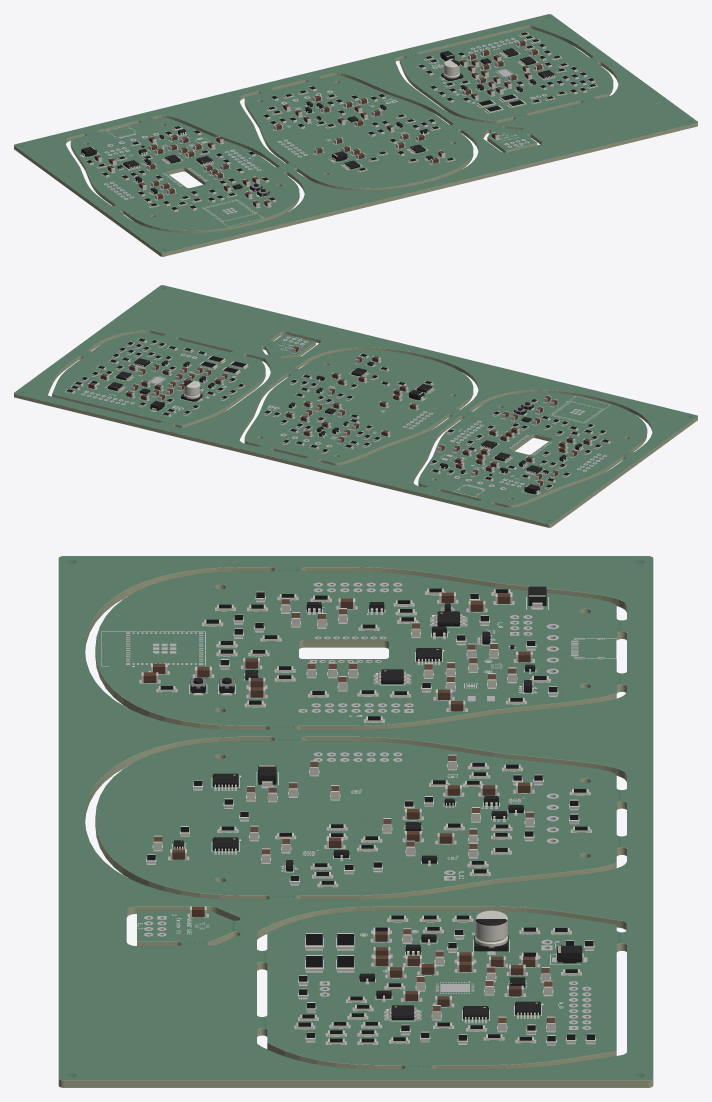
The model's file is Panel.glb.
3 renders of one model, top to bottom at view 1: azimuth 30°, elevation 25°; view 2: azimuth 150°, elevation 25°; view 3: azimuth 270°, elevation 25°, orthographic. The views are drawn at different scales.
Visible parts, largest first — view 1: =>[0:1:1:37], =>[0:1:1:39], =>[0:1:1:34], =>[0:1:1:35]; view 2: =>[0:1:1:37], =>[0:1:1:39], =>[0:1:1:34], =>[0:1:1:35]; view 3: =>[0:1:1:39], =>[0:1:1:37], =>[0:1:1:34], =>[0:1:1:35], =>[0:1:1:29], =>[0:1:1:38].
Part boxes in pixels (x1,y1,x2,y2): =>[0:1:1:37]: (14, 14, 697, 252); =>[0:1:1:39]: (14, 15, 697, 256); =>[0:1:1:34]: (80, 34, 597, 221); =>[0:1:1:35]: (87, 35, 594, 226); =>[0:1:1:37]: (14, 285, 697, 523); =>[0:1:1:39]: (14, 286, 697, 527); =>[0:1:1:34]: (65, 336, 610, 494); =>[0:1:1:35]: (68, 337, 610, 497); =>[0:1:1:39]: (58, 557, 653, 1087); =>[0:1:1:37]: (58, 556, 653, 1080); =>[0:1:1:34]: (126, 582, 605, 1045); =>[0:1:1:35]: (101, 595, 616, 1043); =>[0:1:1:29]: (474, 910, 508, 953); =>[0:1:1:38]: (59, 597, 652, 1087).
Bounding box in the file's own units: 0.238 × 0.00755 × 0.114.
